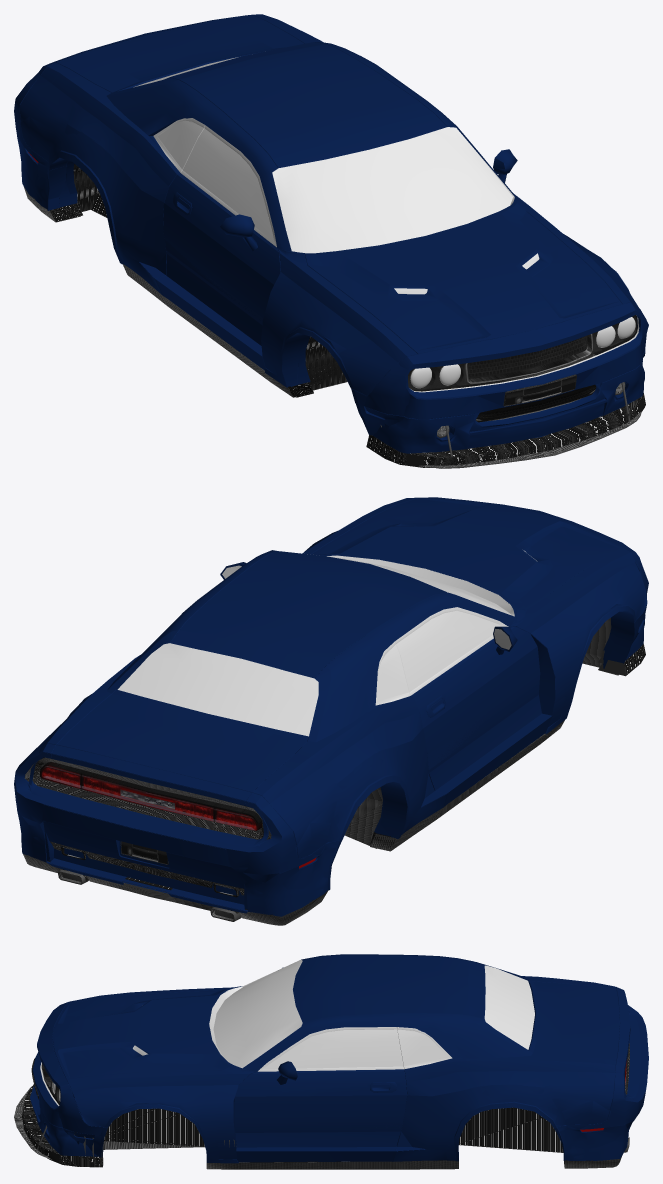
Rendered from Fighter.fbx.
3 renders of one model, top to bottom at view 1: azimuth 30°, elevation 25°; view 2: azimuth 150°, elevation 25°; view 3: azimuth 270°, elevation 25°, orthographic. The views are drawn at different scales.
Visible parts, largest first — view 1: kit02_body, kit03_body, window, body, kit01_body, kit02_objects, kit04_body, radiator, kit01_objects, kit04_objects, static_objects, standart_objects (+1 smaller); view 2: kit02_body, kit03_body, body, kit01_body, window, kit04_body, kit04_objects, rear_lights, static_objects, kit03_objects, standart_objects, kit02_objects; view 3: kit02_body, kit03_body, window, body, kit01_body, kit04_body, kit02_objects, kit04_objects, kit03_objects, static_objects.
Boxes of the visible parts, <box> form: kit02_body: <box>38,14,644,453</box>; kit03_body: <box>14,14,648,435</box>; window: <box>133,57,512,253</box>; body: <box>66,20,642,407</box>; kit01_body: <box>40,14,644,452</box>; kit02_objects: <box>60,203,645,467</box>; kit04_body: <box>17,106,639,429</box>; radiator: <box>408,315,637,391</box>; kit01_objects: <box>60,164,617,462</box>; kit04_objects: <box>23,152,641,468</box>; static_objects: <box>153,118,639,392</box>; standart_objects: <box>77,198,585,410</box>; kit02_body: <box>29,497,644,908</box>; kit03_body: <box>14,527,648,911</box>; body: <box>43,504,605,888</box>; kit01_body: <box>29,498,644,909</box>; window: <box>117,554,510,736</box>; kit04_body: <box>17,564,646,916</box>; kit04_objects: <box>23,618,633,925</box>; rear_lights: <box>40,762,262,830</box>; static_objects: <box>327,550,537,705</box>; kit03_objects: <box>25,659,626,914</box>; standart_objects: <box>50,653,604,897</box>; kit02_objects: <box>32,644,645,890</box>; kit02_body: <box>30,954,633,1156</box>; kit03_body: <box>45,961,648,1162</box>; window: <box>213,960,534,1069</box>; body: <box>35,968,628,1132</box>; kit01_body: <box>32,958,627,1156</box>; kit04_body: <box>63,972,648,1163</box>; kit02_objects: <box>22,1066,542,1167</box>; kit04_objects: <box>14,1086,629,1169</box>; kit03_objects: <box>74,1043,629,1168</box>; static_objects: <box>40,972,452,1105</box>.
Bounding box in the file's own units: 2.1 × 1.25 × 5.12.
Materials: 9 (4 with a texture image).
